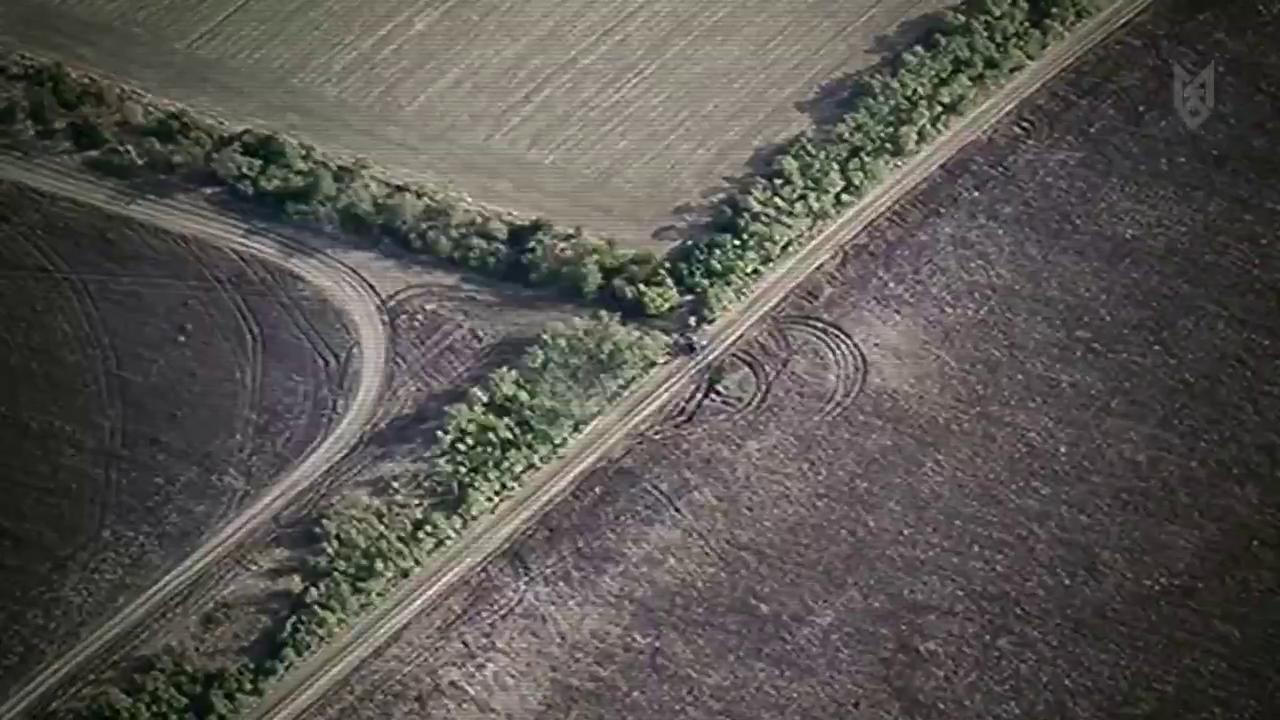tank: (670, 320, 713, 366)
